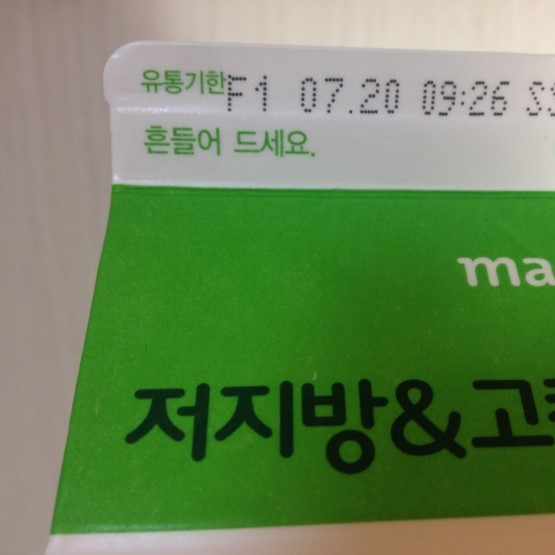milk: (47, 40, 553, 555)
